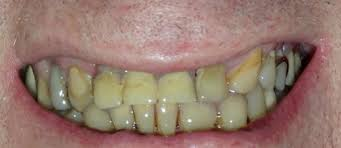decay: (49, 64, 70, 107), (275, 48, 284, 93), (287, 46, 295, 89), (27, 68, 37, 91)
normal: (82, 104, 113, 131), (109, 103, 135, 131), (263, 88, 276, 108), (66, 108, 81, 122)
rough: (259, 49, 276, 90)
yellow: (121, 68, 158, 105), (91, 69, 121, 108), (230, 52, 257, 93), (68, 67, 92, 113), (159, 75, 197, 104), (198, 67, 229, 102), (180, 104, 215, 131), (216, 99, 245, 130), (133, 106, 157, 136), (158, 105, 179, 137), (247, 92, 264, 120), (37, 77, 49, 106)
